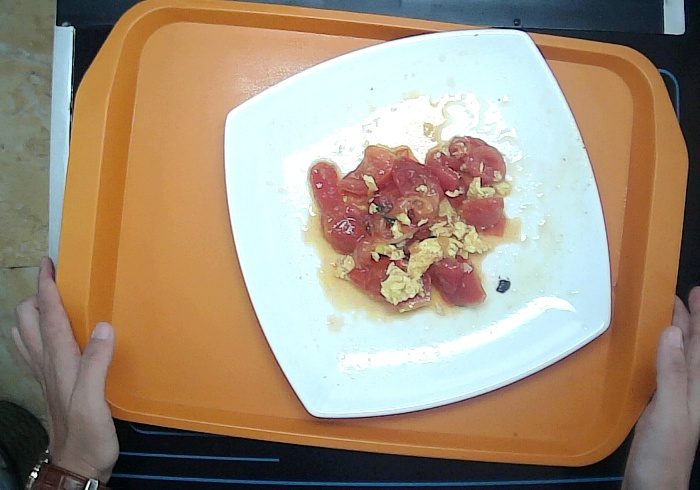ZNLD-Bai_Fang_Pan: (222, 27, 612, 420)
